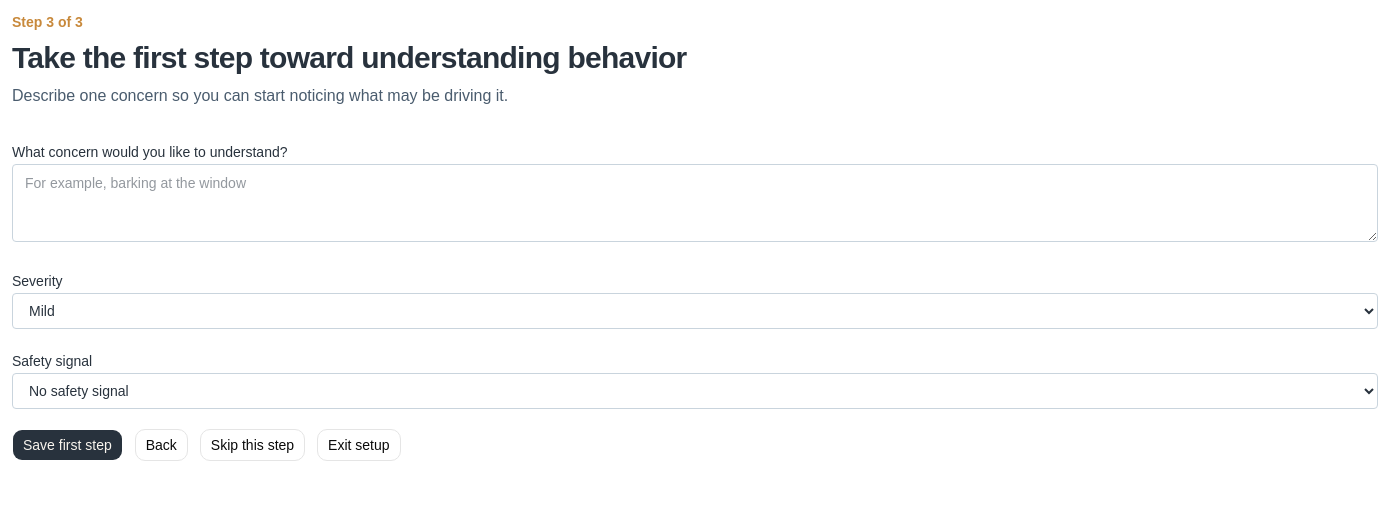
Test: GuidedSetup › keeps behavior values and shows an action error when conflict reconciliation fails
This screenshot has width=1390, height=518.
Type "Barking at visitors" into the text box labelled "What concern would you like to understand?" at (695, 203), box [12,164,1378,242]
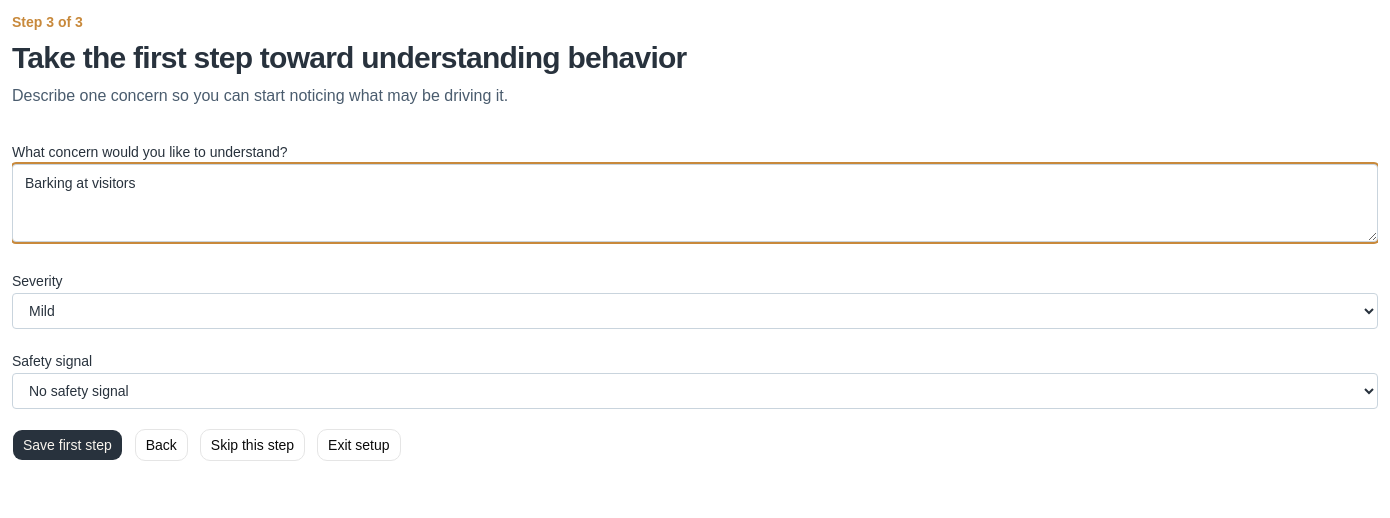
Click the button "Save first step" at (67, 445), box [12,429,123,461]
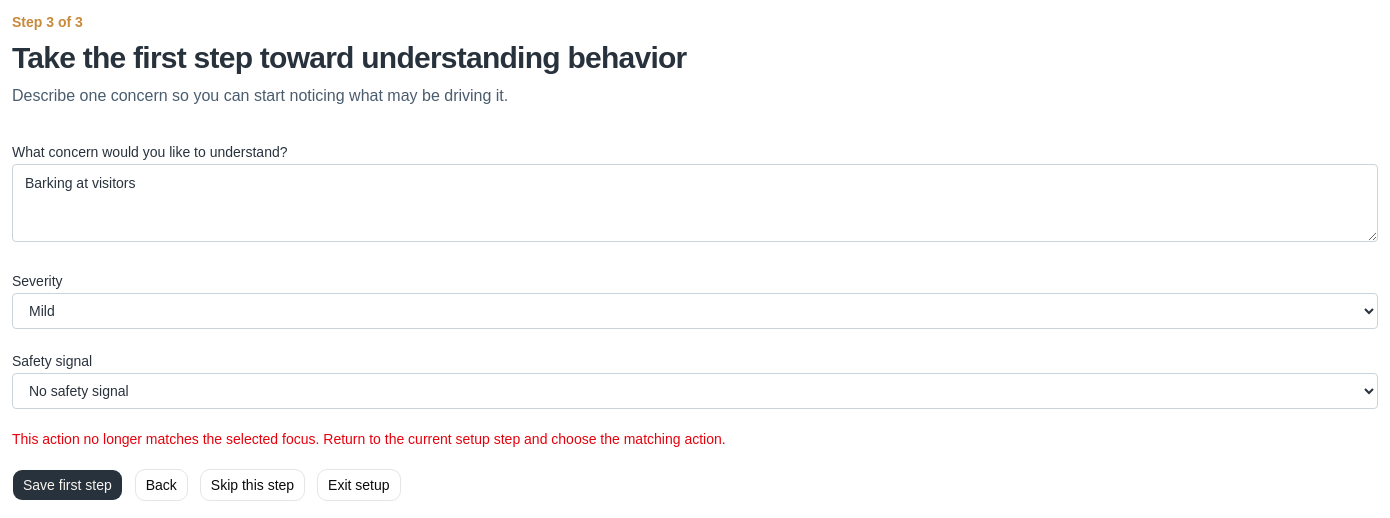
Expected: the text "Step 3 of 3" is shown, [12,14,83,30]
Expected: the message shows "This action no longer matches the selected focus", [12,431,726,447]
